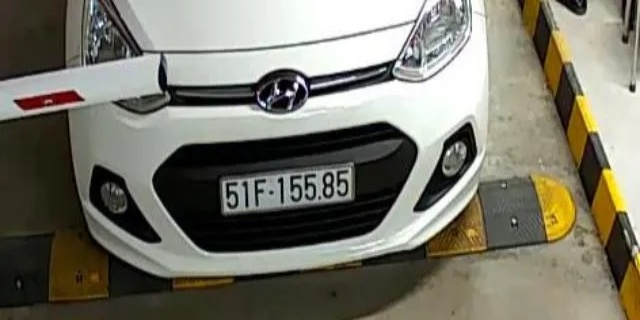bien_so: (222, 168, 352, 210)
